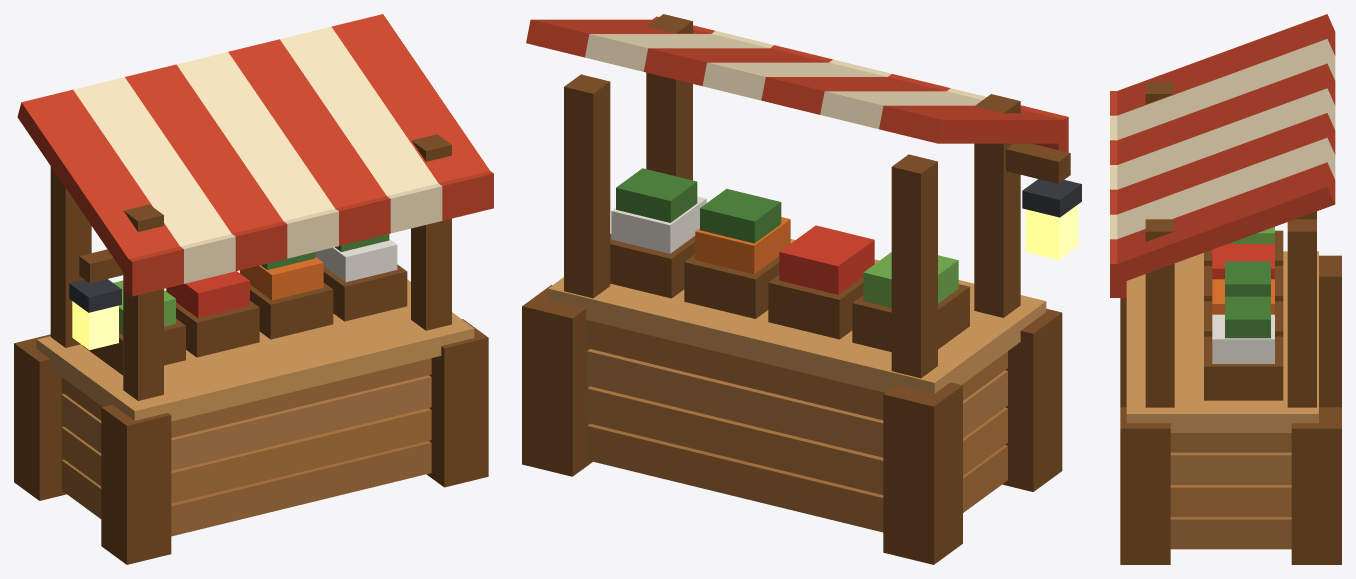
File: prop-stall.glb
3 views of the same model, side by side, from view 1: azimuth 30°, elevation 25°; view 2: azimuth 150°, elevation 25°; view 3: azimuth 270°, elevation 25° (orthographic). The views are drawn at different scales.
Visible parts, largest first — view 1: Top, Awning, Counter_post, Counter_p.001, Counter_p.002, Counter_p, Awning.005, Awning.002, Awning.003, Awning.004, Awning.001, Awning.006 (+24 smaller); view 2: Top, Counter_post.001, Counter_p.001, Counter_p, Counter_p.002, Counter_post.003, Pillar.003, Pillar.001, Counter_p.003, Counter_post, Pillar, Awning (+20 smaller); view 3: Top, Awning.006, Counter_post.003, Counter_post.002, Pillar.003, Awning.001, Awning.004, Awning.002, Awning.003, Awning.005, Awning, Pillar.002 (+18 smaller).
Part boxes in pixels (bbox=[...]): Top: bbox=[36, 279, 474, 421]; Awning: bbox=[17, 89, 179, 278]; Counter_post: bbox=[101, 404, 171, 564]; Counter_p.001: bbox=[61, 408, 431, 503]; Counter_p.002: bbox=[61, 375, 431, 470]; Counter_p: bbox=[61, 441, 431, 536]; Awning.005: bbox=[280, 26, 438, 195]; Awning.002: bbox=[125, 64, 282, 233]; Awning.003: bbox=[176, 52, 334, 221]; Awning.004: bbox=[228, 39, 386, 208]; Awning.001: bbox=[73, 77, 231, 246]; Awning.006: bbox=[332, 14, 489, 183]; Top: bbox=[548, 239, 1046, 393]; Counter_post.001: bbox=[883, 382, 962, 564]; Counter_p.001: bbox=[587, 386, 1007, 494]; Counter_p: bbox=[587, 423, 1007, 532]; Counter_p.002: bbox=[587, 349, 1007, 457]; Counter_post.003: bbox=[522, 285, 592, 476]; Pillar.003: bbox=[564, 74, 610, 298]; Pillar.001: bbox=[891, 154, 937, 378]; Counter_p.003: bbox=[587, 320, 1007, 420]; Counter_post: bbox=[1002, 308, 1062, 491]; Pillar: bbox=[974, 94, 1020, 317]; Awning: bbox=[879, 105, 1068, 143]; Top: bbox=[1126, 251, 1318, 432]; Awning.006: bbox=[1110, 162, 1335, 283]; Counter_post.003: bbox=[1291, 407, 1341, 564]; Counter_post.002: bbox=[1120, 407, 1170, 564]; Pillar.003: bbox=[1287, 219, 1316, 407]; Awning.001: bbox=[1117, 39, 1335, 140]; Awning.004: bbox=[1117, 113, 1335, 214]; Awning.002: bbox=[1117, 63, 1335, 164]; Awning.003: bbox=[1117, 88, 1335, 189]; Awning.005: bbox=[1117, 137, 1335, 238]; Awning: bbox=[1117, 14, 1335, 115]; Pillar.002: bbox=[1145, 219, 1174, 407].
Bounding box in the file's own units: 2.11 × 2 × 1.11.
